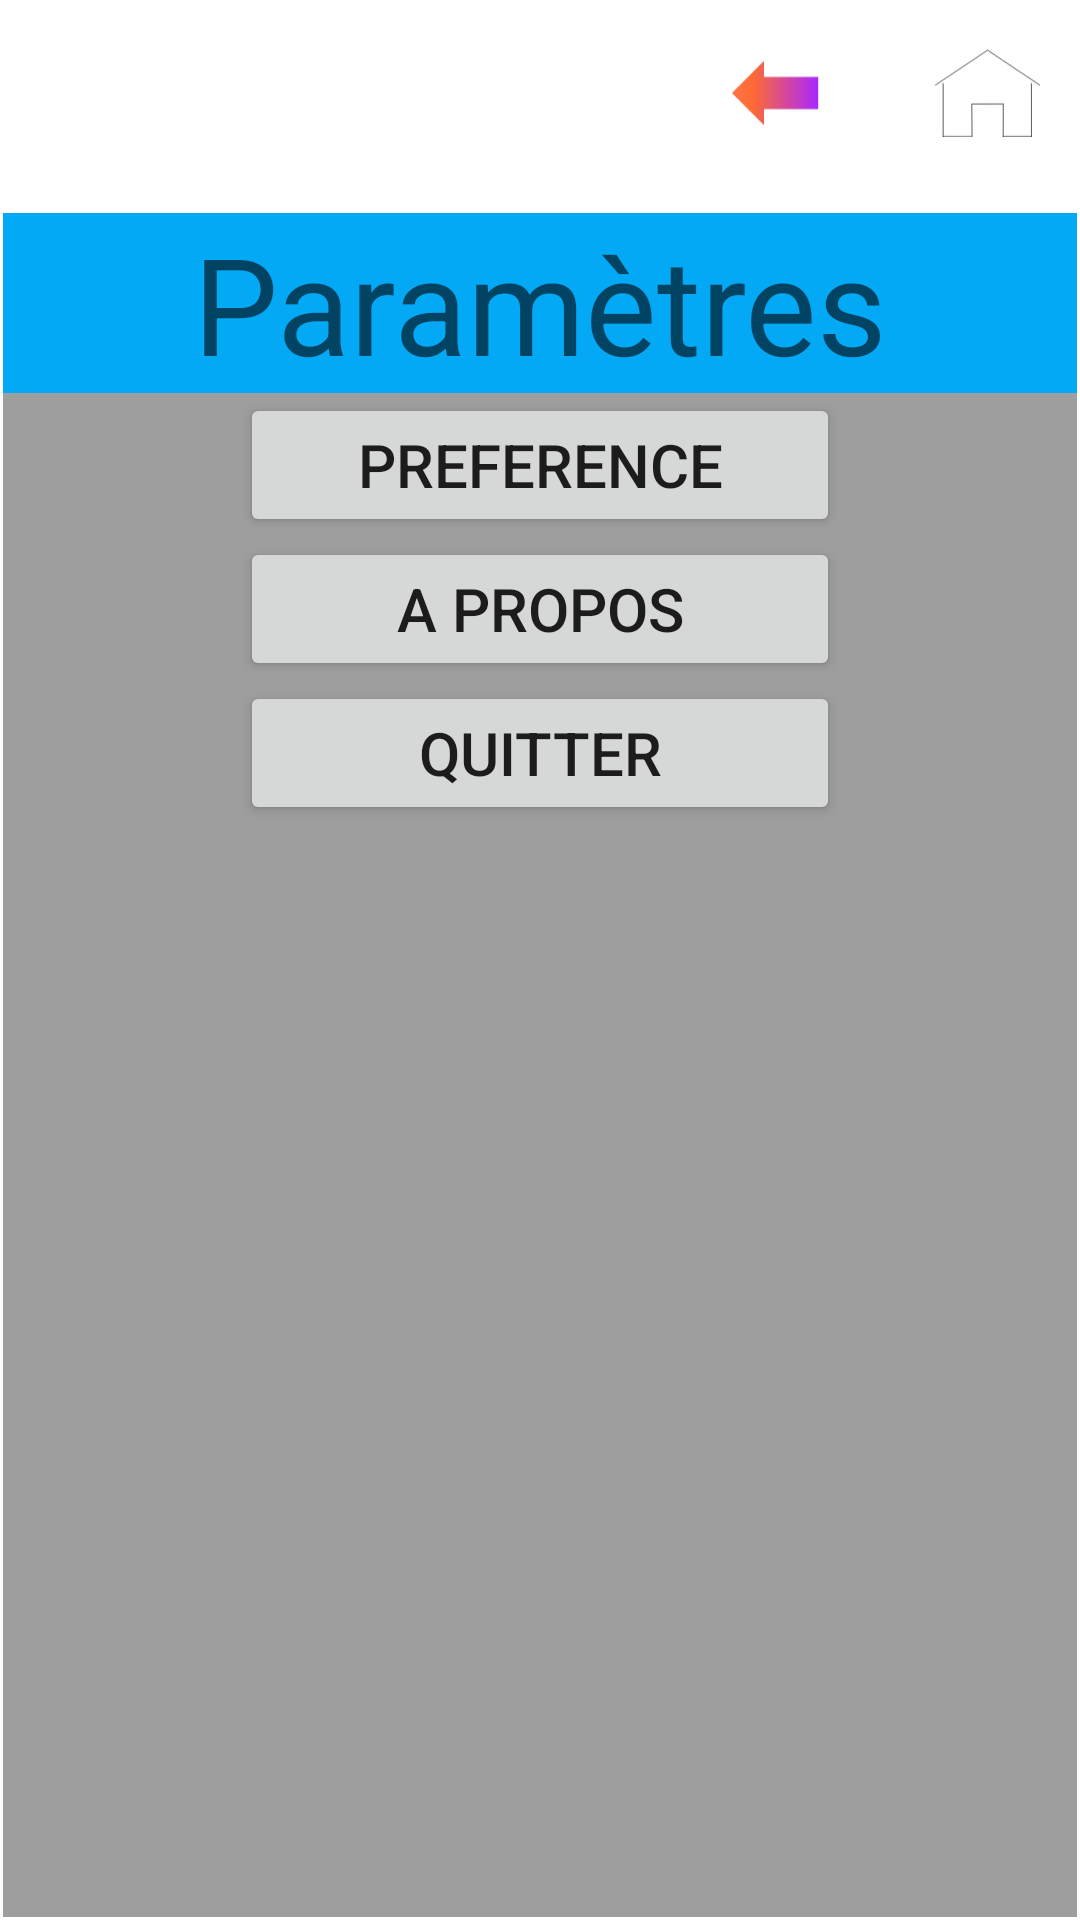

Point at icon controls on the screen. Image size 1080*1920, points as (x,y).
Acceuil: (987,93)
Retour: (775,93)
